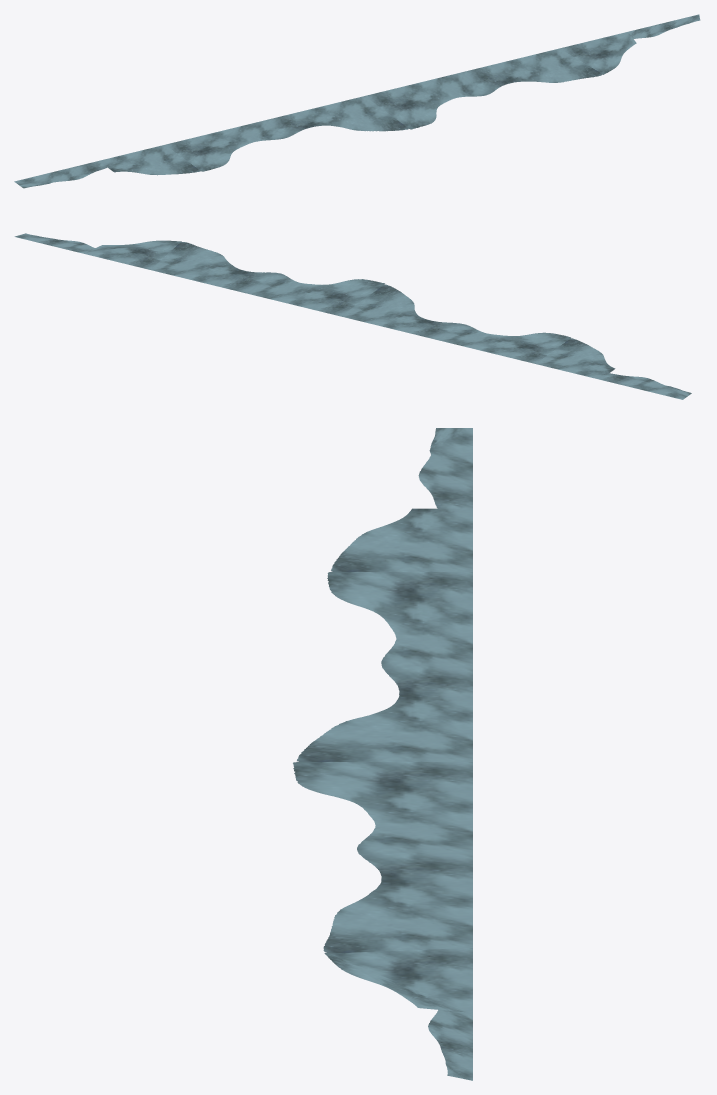
The model's file is dibiaocaoditiekuai-05.FBX.
3 renders of one model, top to bottom at view 1: azimuth 30°, elevation 25°; view 2: azimuth 150°, elevation 25°; view 3: azimuth 270°, elevation 25°, orthographic. The views are drawn at different scales.
Visible parts, largest first — view 1: Sphere002; view 2: Sphere002; view 3: Sphere002.
Boxes of the visible parts, box(x1,y1,x2,y2) form: Sphere002: box(14, 14, 700, 188); Sphere002: box(14, 233, 691, 399); Sphere002: box(293, 428, 472, 1080).
Bounding box in the file's own units: 23.45 × 9.86e-16 × 3.48.
